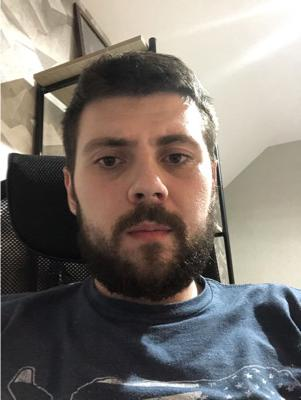without_mask: (69, 131, 216, 284)
